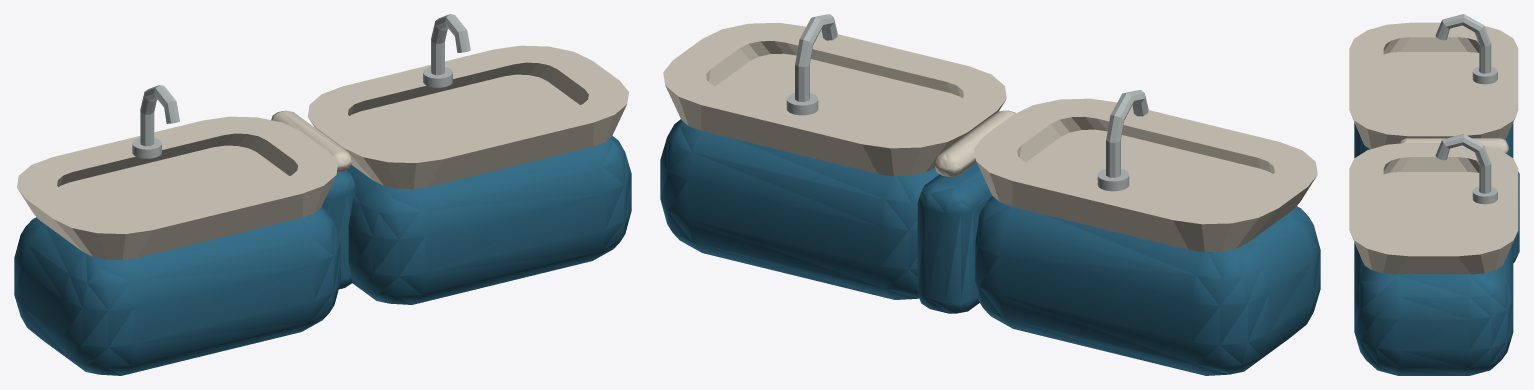
File: 13_advanced_washstand.glb
3 views of the same model, side by side, from view 1: azimuth 30°, elevation 25°; view 2: azimuth 150°, elevation 25°; view 3: azimuth 270°, elevation 25° (orthographic). The views are drawn at different scales.
Visible parts, largest first — view 1: 13_advanced_washstand__Static; view 2: 13_advanced_washstand__Static; view 3: 13_advanced_washstand__Static.
Boxes of the visible parts, left/top/right/bottom form: 13_advanced_washstand__Static: left=14, top=14, right=631, bottom=375; 13_advanced_washstand__Static: left=660, top=14, right=1320, bottom=375; 13_advanced_washstand__Static: left=1349, top=14, right=1519, bottom=375.
Size of the model in its own units: 2.26 by 0.9047 by 0.695.
